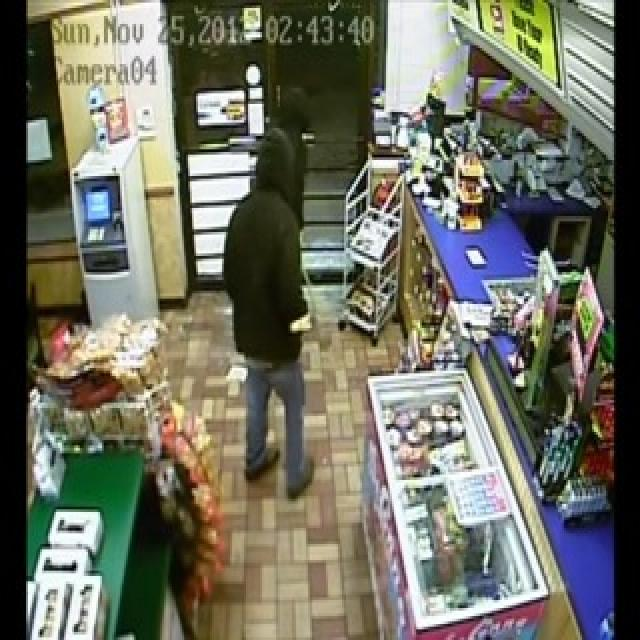thief: (215, 125, 336, 507)
